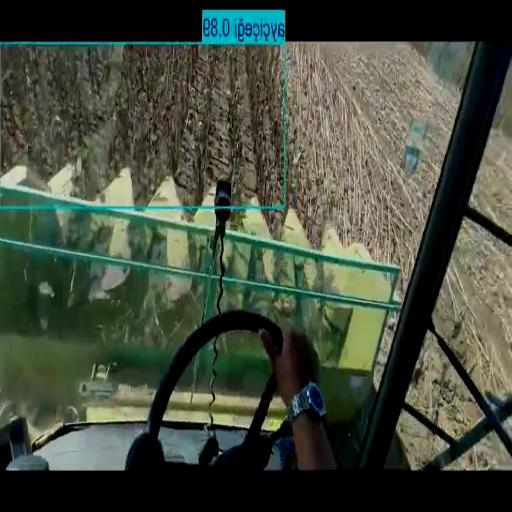ayc: (207, 55, 228, 182)
